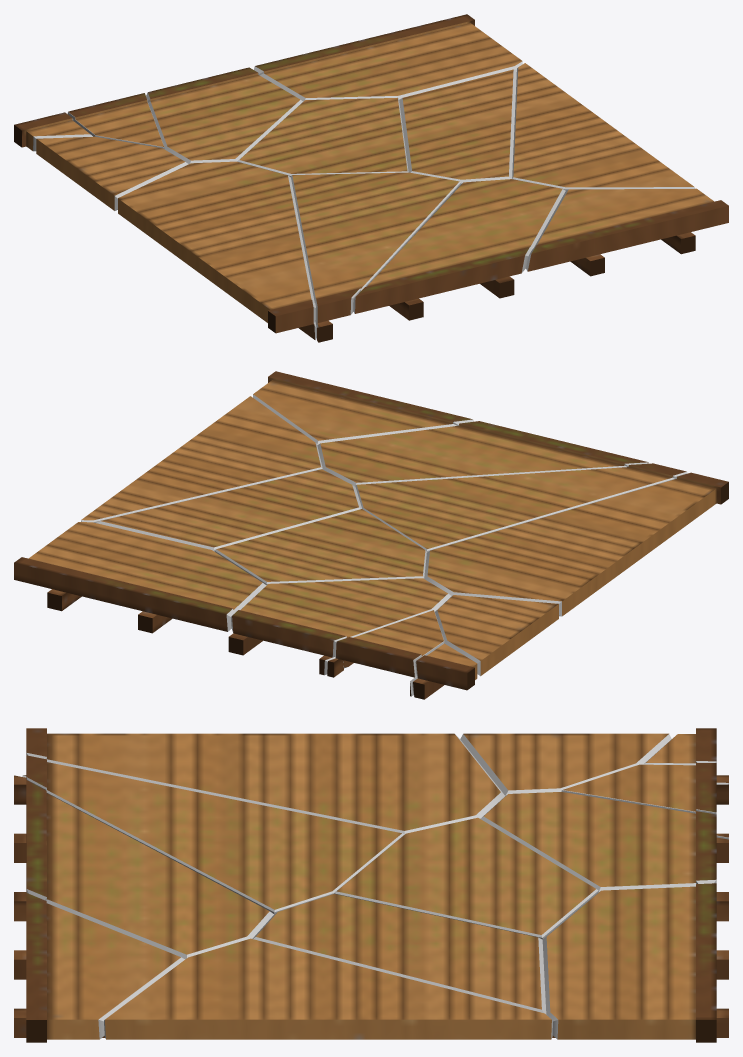
File: Kit_House_Floor_Fractured.fbx
3 renders of one model, top to bottom at view 1: azimuth 30°, elevation 25°; view 2: azimuth 150°, elevation 25°; view 3: azimuth 270°, elevation 25°, orthographic. The views are drawn at different scales.
Visible parts, largest first — view 1: Kit_House_Floor_frag_12, Kit_House_Floor_frag_09, Kit_House_Floor_frag_05, Kit_House_Floor_frag_07, Kit_House_Floor_frag_10, Kit_House_Floor_frag_04, Kit_House_Floor_frag_01, Kit_House_Floor_frag_06, Kit_House_Floor_frag_02, Kit_House_Floor_frag_11, Kit_House_Floor_frag_03, Kit_House_Floor_frag_08; view 2: Kit_House_Floor_frag_12, Kit_House_Floor_frag_07, Kit_House_Floor_frag_05, Kit_House_Floor_frag_09, Kit_House_Floor_frag_10, Kit_House_Floor_frag_02, Kit_House_Floor_frag_01, Kit_House_Floor_frag_06, Kit_House_Floor_frag_04, Kit_House_Floor_frag_11, Kit_House_Floor_frag_03, Kit_House_Floor_frag_08; view 3: Kit_House_Floor_frag_12, Kit_House_Floor_frag_10, Kit_House_Floor_frag_07, Kit_House_Floor_frag_05, Kit_House_Floor_frag_09, Kit_House_Floor_frag_01, Kit_House_Floor_frag_06, Kit_House_Floor_frag_02, Kit_House_Floor_frag_04, Kit_House_Floor_frag_11, Kit_House_Floor_frag_03, Kit_House_Floor_frag_08.
Boxes of the visible parts, x1,y1,x2,y2 form: Kit_House_Floor_frag_12: (118, 161, 316, 339); Kit_House_Floor_frag_09: (353, 179, 565, 320); Kit_House_Floor_frag_05: (291, 172, 461, 342); Kit_House_Floor_frag_07: (254, 14, 522, 101); Kit_House_Floor_frag_10: (512, 63, 694, 190); Kit_House_Floor_frag_04: (526, 188, 728, 276); Kit_House_Floor_frag_01: (399, 69, 516, 183); Kit_House_Floor_frag_06: (237, 97, 408, 177); Kit_House_Floor_frag_02: (146, 67, 302, 163); Kit_House_Floor_frag_11: (36, 136, 188, 210); Kit_House_Floor_frag_03: (67, 93, 164, 149); Kit_House_Floor_frag_08: (14, 112, 92, 151); Kit_House_Floor_frag_12: (424, 472, 728, 616); Kit_House_Floor_frag_07: (14, 522, 266, 633); Kit_House_Floor_frag_05: (355, 463, 687, 552); Kit_House_Floor_frag_09: (317, 421, 648, 486); Kit_House_Floor_frag_10: (81, 396, 322, 522); Kit_House_Floor_frag_02: (228, 578, 451, 675); Kit_House_Floor_frag_01: (96, 469, 361, 551); Kit_House_Floor_frag_06: (214, 509, 426, 585); Kit_House_Floor_frag_04: (253, 371, 473, 444); Kit_House_Floor_frag_11: (435, 595, 558, 676); Kit_House_Floor_frag_03: (327, 610, 444, 696); Kit_House_Floor_frag_08: (412, 643, 477, 699); Kit_House_Floor_frag_12: (22, 728, 504, 834); Kit_House_Floor_frag_10: (104, 938, 552, 1039); Kit_House_Floor_frag_07: (542, 883, 728, 1042); Kit_House_Floor_frag_05: (14, 755, 404, 914); Kit_House_Floor_frag_09: (14, 780, 273, 959); Kit_House_Floor_frag_01: (252, 894, 546, 1014); Kit_House_Floor_frag_06: (334, 817, 598, 939); Kit_House_Floor_frag_02: (480, 792, 728, 921); Kit_House_Floor_frag_04: (14, 893, 184, 1042); Kit_House_Floor_frag_11: (460, 733, 671, 795); Kit_House_Floor_frag_03: (561, 763, 728, 839); Kit_House_Floor_frag_08: (644, 728, 728, 784).
Size of what is drawn, in the model's own units: 5 by 0.3414 by 5.18.
